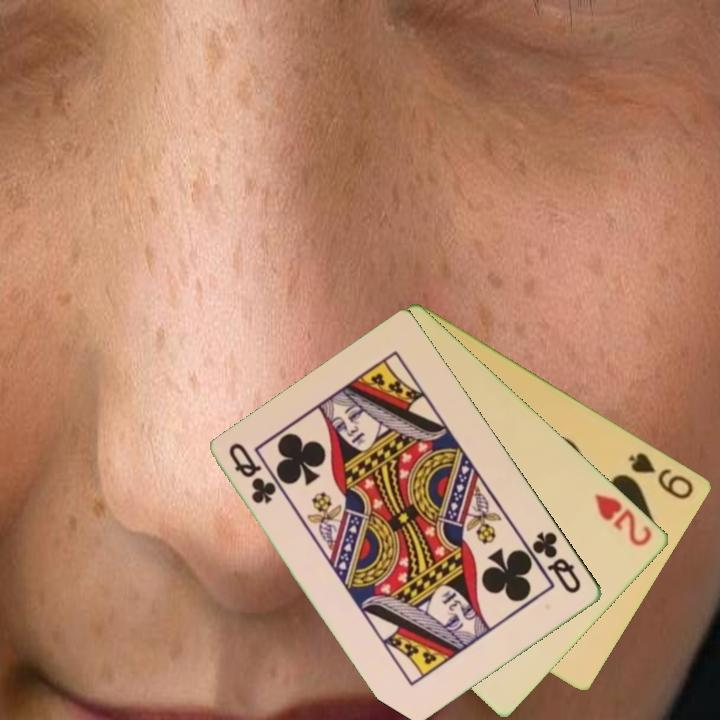2h: (592, 490, 656, 549)
9s: (625, 448, 697, 503)
Qc: (529, 528, 585, 597), (225, 439, 280, 508)
